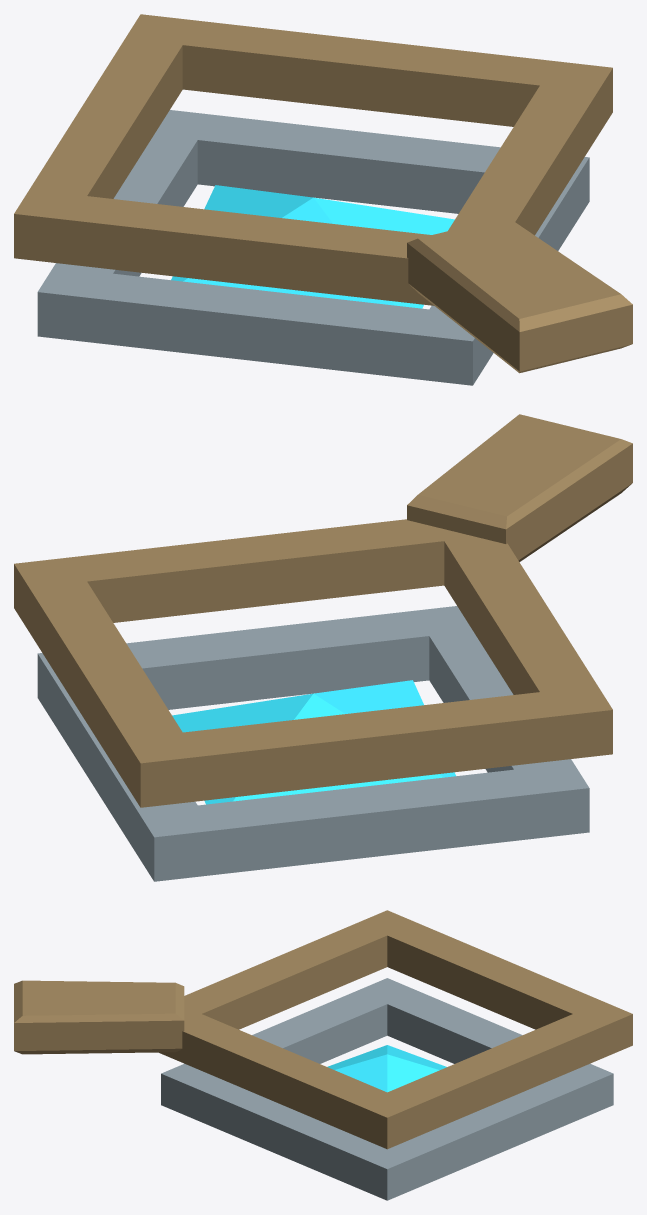
File: accessory-high.glb
3 views of the same model, one above another, from view 1: azimuth 30°, elevation 25°; view 2: azimuth 150°, elevation 25°; view 3: azimuth 270°, elevation 25° (orthographic). The views are drawn at different scales.
Visible parts, largest first — view 1: CW_Relic_accessory; view 2: CW_Relic_accessory; view 3: CW_Relic_accessory.
Boxes of the visible parts, bbox=[...] form: CW_Relic_accessory: bbox=[14, 14, 632, 385]; CW_Relic_accessory: bbox=[14, 414, 632, 881]; CW_Relic_accessory: bbox=[14, 910, 632, 1200].
Size of the model in its own units: 0.254 by 0.089 by 0.32.
